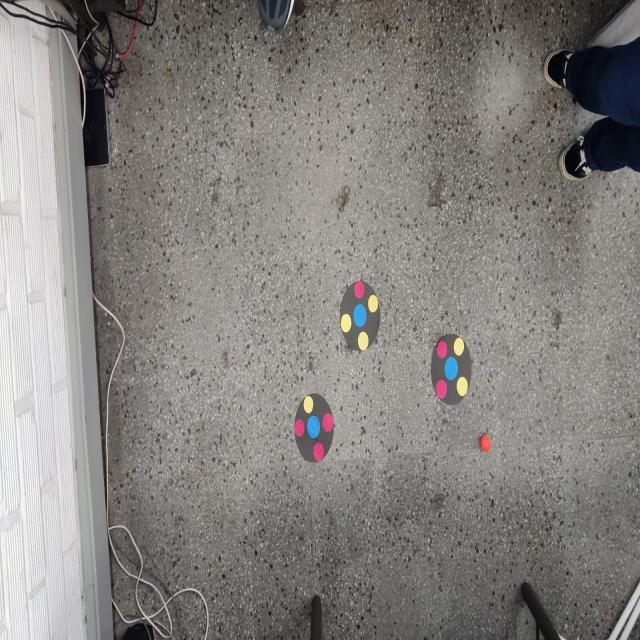0: (294, 393, 335, 462)
1: (430, 332, 472, 407)
2: (338, 280, 381, 352)
Ball: (480, 433, 491, 453)
